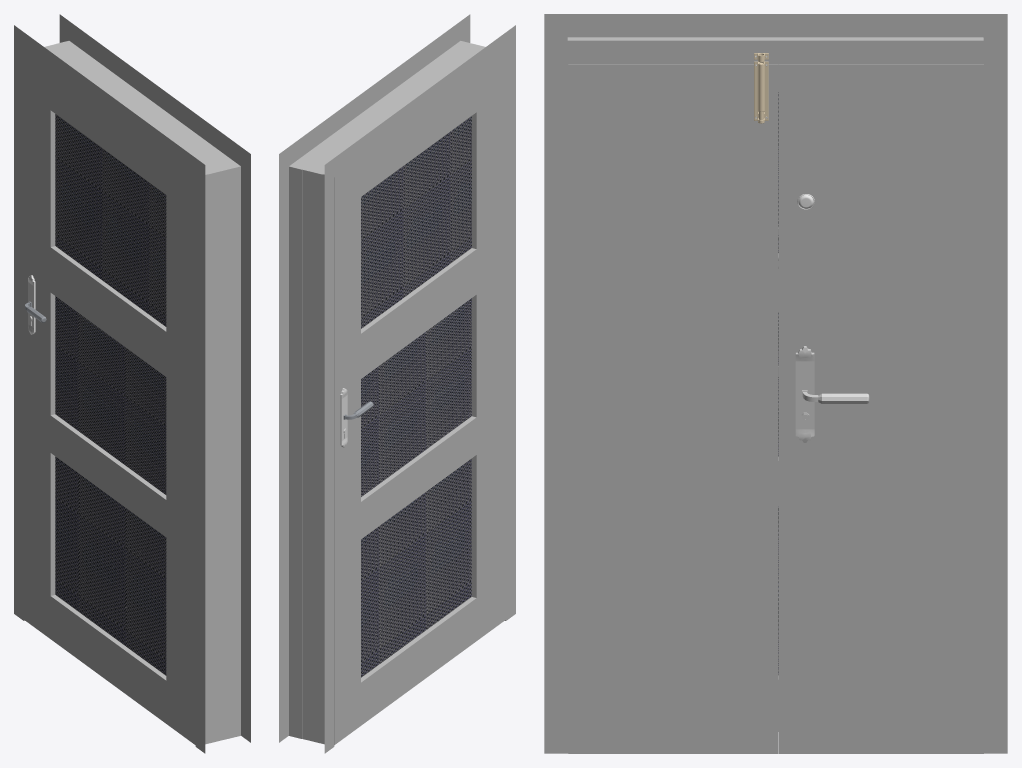
Rendered from casa_spectra_double_door.fbx.
3 renders of one model, left to right at view 1: azimuth 30°, elevation 25°; view 2: azimuth 150°, elevation 25°; view 3: azimuth 270°, elevation 25°, orthographic. The views are drawn at different scales.
Parts seen in each view (by area): view 1: GLASS_DOOR, polySurface2.003, polySurface5.001, polySurface6.002; view 2: GLASS_DOOR, polySurface2.003, polySurface6.002, polySurface5.001, pCube12; view 3: polySurface5.001, polySurface6.002, polySurface2.003, GLASS_DOOR, pCube11.003, polySurface10.
Boxes of the visible parts, x1=… form: GLASS_DOOR: x1=24, y1=52, x2=207, y2=744; polySurface2.003: x1=14, y1=14, x2=250, y2=753; polySurface5.001: x1=141, y1=103, x2=240, y2=738; polySurface6.002: x1=56, y1=41, x2=153, y2=105; GLASS_DOOR: x1=322, y1=51, x2=506, y2=744; polySurface2.003: x1=279, y1=14, x2=515, y2=753; polySurface6.002: x1=289, y1=104, x2=386, y2=738; polySurface5.001: x1=374, y1=41, x2=473, y2=107; pCube12: x1=340, y1=388, x2=347, y2=447; polySurface5.001: x1=568, y1=64, x2=777, y2=753; polySurface6.002: x1=778, y1=64, x2=983, y2=753; polySurface2.003: x1=544, y1=14, x2=1007, y2=753; GLASS_DOOR: x1=567, y1=37, x2=983, y2=731; pCube11.003: x1=795, y1=346, x2=814, y2=442; polySurface10: x1=754, y1=61, x2=768, y2=123.
Bounding box in the file's own units: 32.4 × 250 × 147.
